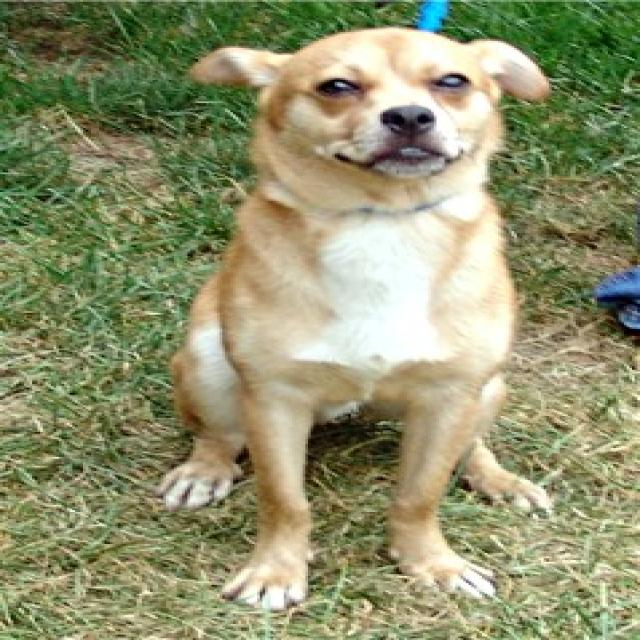Dogs: (153, 25, 554, 610)
